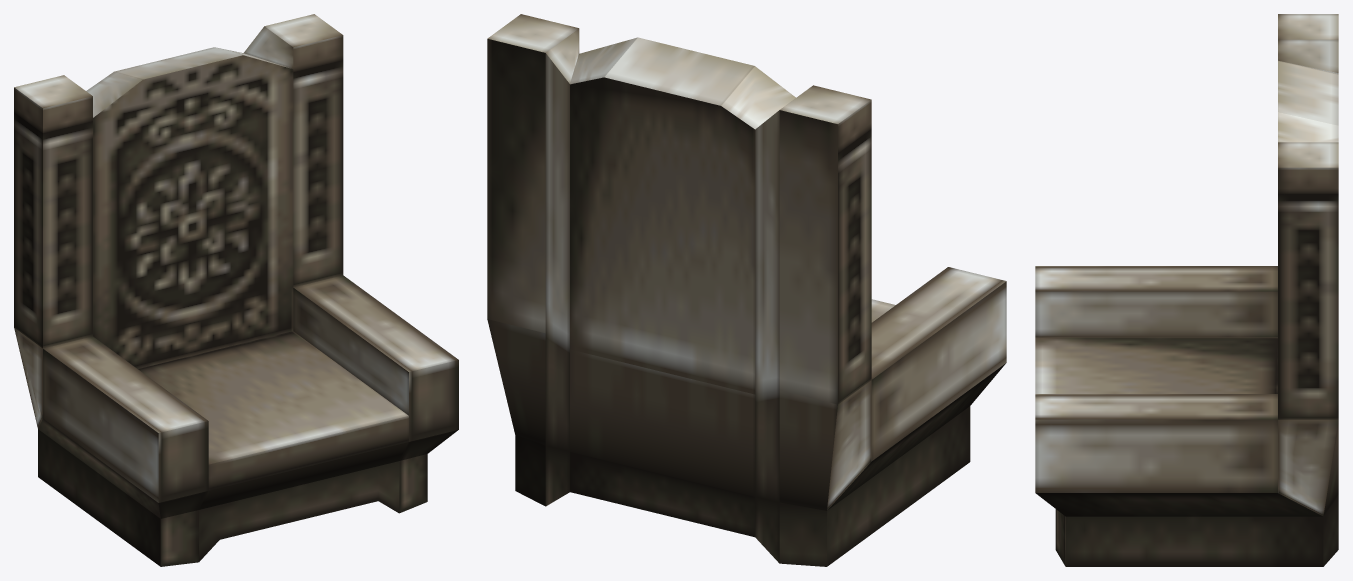
Rendered from Inside_Poly_Chair_02.obj.
3 renders of one model, left to right at view 1: azimuth 30°, elevation 25°; view 2: azimuth 150°, elevation 25°; view 3: azimuth 270°, elevation 25°, orthographic. The views are drawn at different scales.
Parts seen in each view (by area): view 1: Cube; view 2: Cube; view 3: Cube.
Boxes of the visible parts, <box> form: Cube: <box>14,14,458,566</box>; Cube: <box>487,14,1006,566</box>; Cube: <box>1035,14,1338,566</box>.
Bounding box in the file's own units: 1.08 × 1.35 × 0.9.
Materials: 1 (1 with a texture image).
